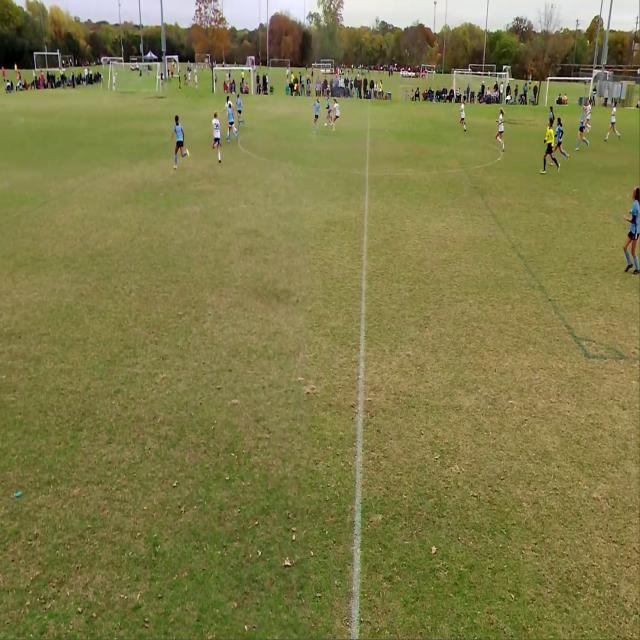ball: (324, 124, 328, 128)
team1: (623, 187, 640, 272), (172, 115, 190, 168), (555, 118, 569, 160), (576, 103, 588, 150), (227, 106, 237, 140), (236, 96, 245, 130), (314, 97, 321, 131), (326, 98, 332, 123), (547, 107, 556, 123)
team2: (212, 113, 224, 171), (606, 99, 620, 141), (494, 109, 506, 155), (459, 100, 468, 137), (586, 100, 594, 135), (333, 100, 340, 136), (225, 97, 231, 107)
